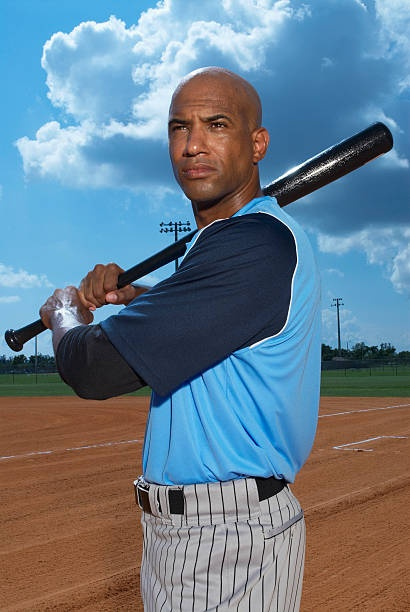bita: (9, 231, 199, 354), (263, 116, 389, 205)
